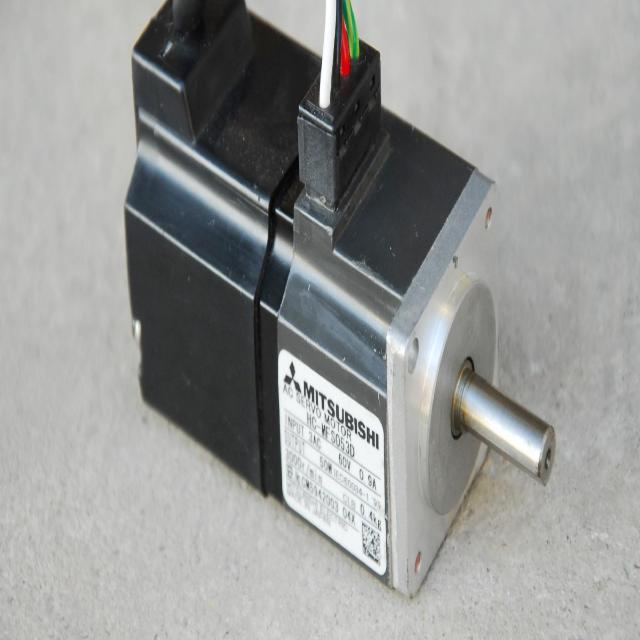servomotor: (125, 0, 569, 593)
